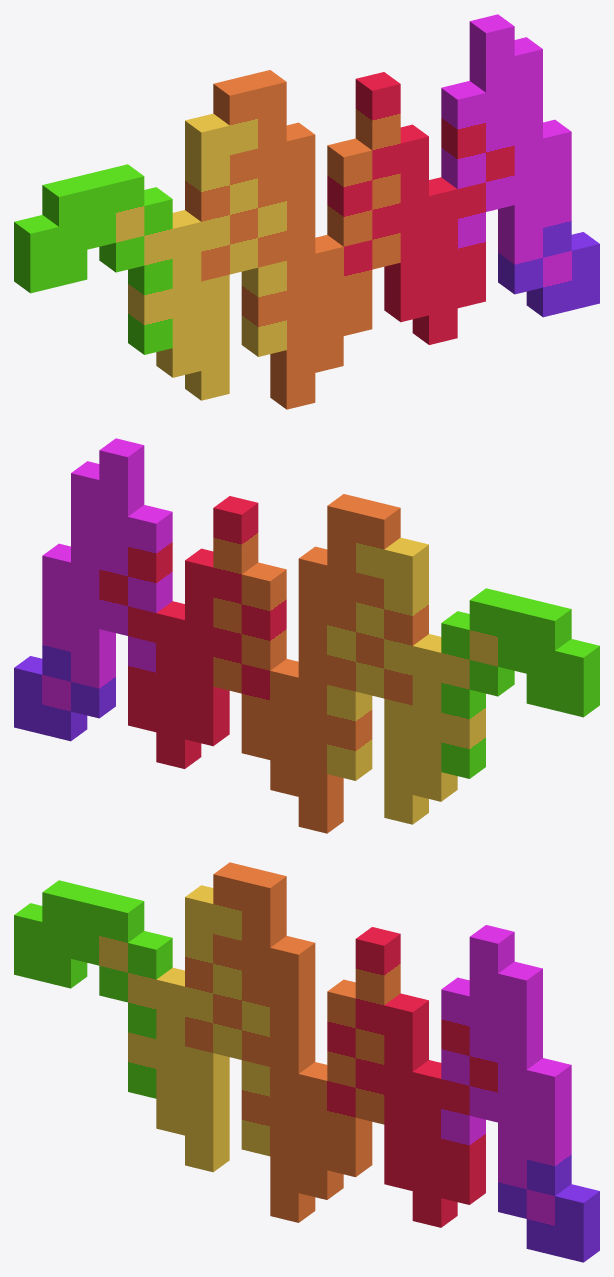
The model's file is squiggle.gltf.
3 renders of one model, top to bottom at view 1: azimuth 30°, elevation 25°; view 2: azimuth 150°, elevation 25°; view 3: azimuth 330°, elevation 25°, orthographic.
Visible parts, largest first — view 1: ACCESSORY-Local; view 2: ACCESSORY-Local; view 3: ACCESSORY-Local.
Part boxes in pixels (x1=…): ACCESSORY-Local: x1=14, y1=14, x2=599, y2=409; ACCESSORY-Local: x1=14, y1=438, x2=599, y2=833; ACCESSORY-Local: x1=14, y1=862, x2=599, y2=1262.
Size of the model in its own units: 20 by 11 by 1.
Materials: 1 (1 with a texture image).
